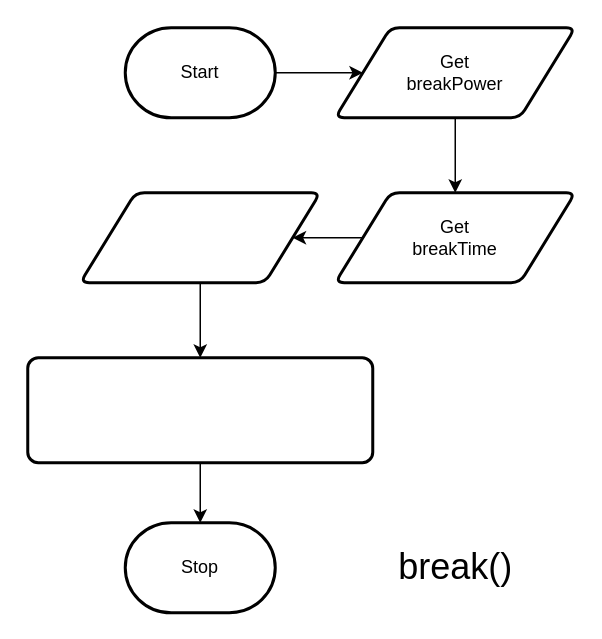
This 602x639 diagram has some shape labels left out. The shapes that lost their labels are listed below. From the top down, each one's centre as x and y in pixels, then its label:
(199,237): Get airPressure
(200,410): this.speed = this.speed - (breakPower * breakTime) - (airPressure * breakTime)
